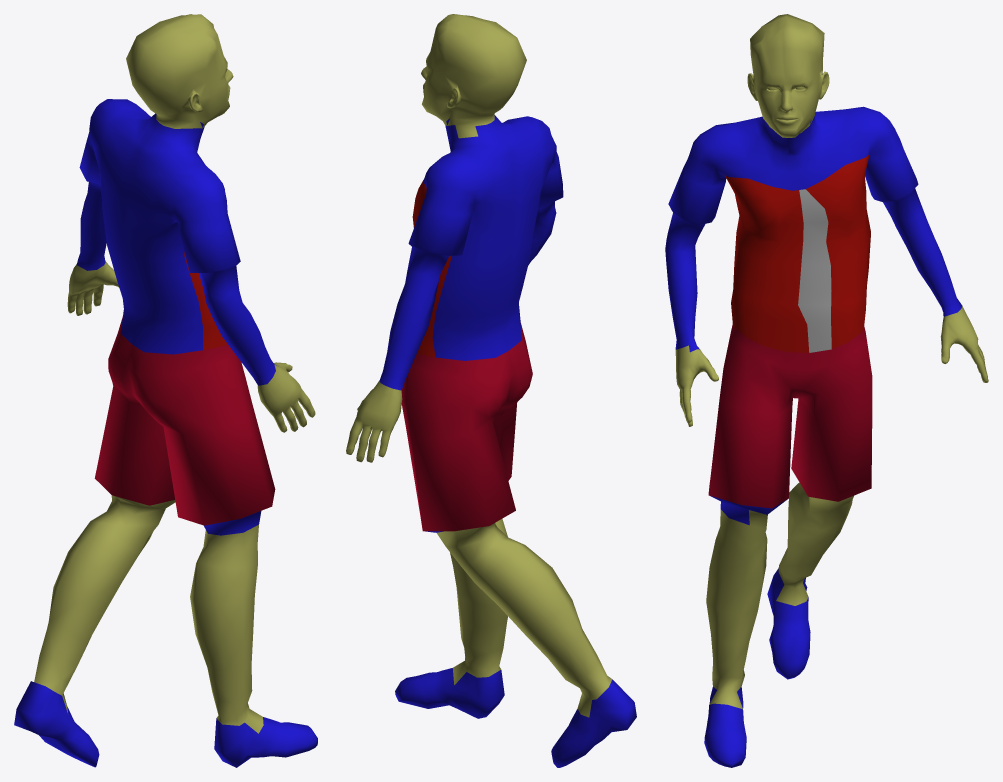
File: player_000006.obj
3 renders of one model, left to right at view 1: azimuth 30°, elevation 25°; view 2: azimuth 150°, elevation 25°; view 3: azimuth 270°, elevation 25°, orthographic. The views are drawn at different scales.
Visible parts, largest first — view 1: soccerplayer_mesh; view 2: soccerplayer_mesh; view 3: soccerplayer_mesh.
Part boxes in pixels (<box>): soccerplayer_mesh: <box>14,14,317,767</box>; soccerplayer_mesh: <box>346,14,636,767</box>; soccerplayer_mesh: <box>665,14,988,767</box>.
Size of the model in its own units: 2.06 by 5.37 by 2.25.
